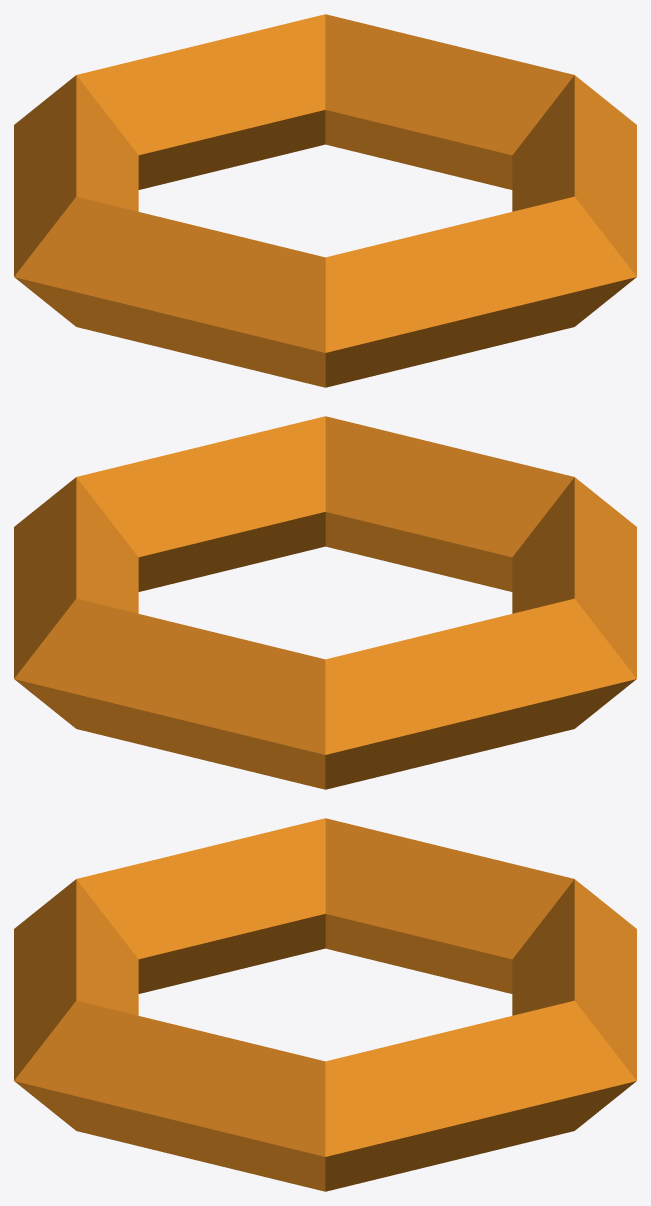
3 views of the same model, one above another, from view 1: azimuth 30°, elevation 25°; view 2: azimuth 150°, elevation 25°; view 3: azimuth 270°, elevation 25° (orthographic).
Visible parts, largest first — view 1: Torus; view 2: Torus; view 3: Torus.
Boxes of the visible parts, x1,y1,x2,y2 form: Torus: (14, 14, 636, 387); Torus: (14, 416, 636, 789); Torus: (14, 818, 636, 1191).
Size of the model in its own units: 2.5 by 0.5 by 2.17.
